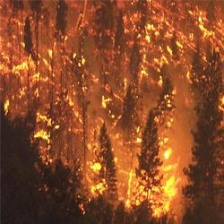fire: (10, 8, 200, 210)
